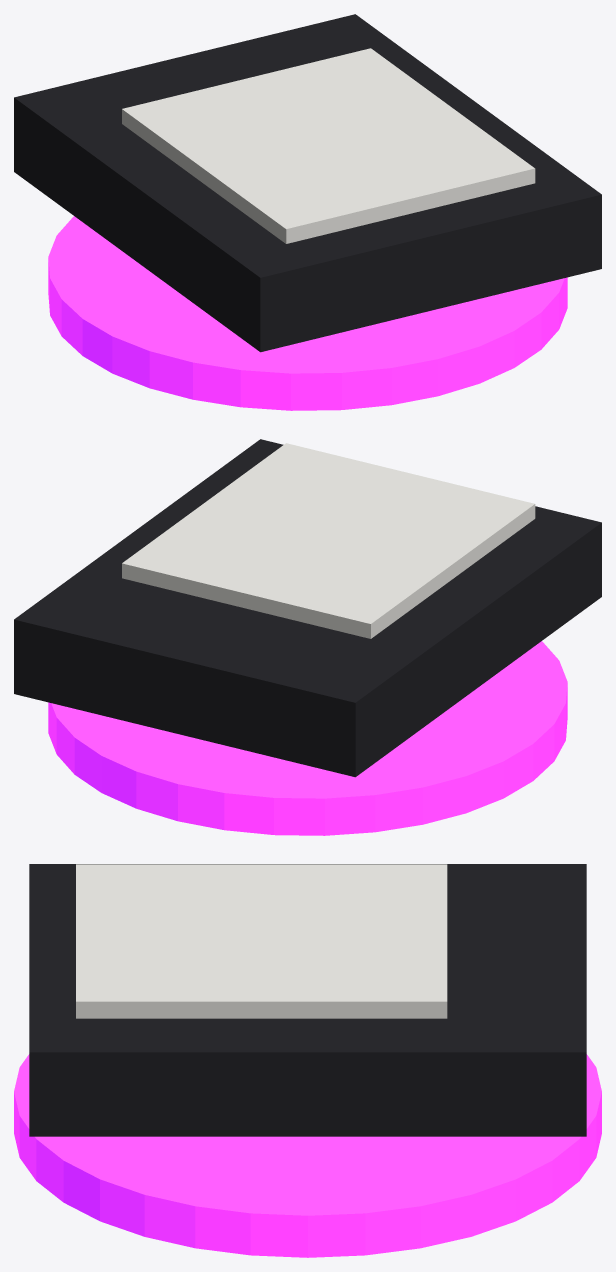
Rendered from modelling_portfolio_book.glb.
3 renders of one model, top to bottom at view 1: azimuth 30°, elevation 25°; view 2: azimuth 150°, elevation 25°; view 3: azimuth 270°, elevation 25°, orthographic. The views are drawn at different scales.
Parts seen in each view (by area): view 1: 05_10_Popular_Modelling_Portfolio_Book_part_01, 05_10_Popular_Modelling_Portfolio_Book_part_02, 05_10_Popular_Modelling_Portfolio_Book_ROOT_base; view 2: 05_10_Popular_Modelling_Portfolio_Book_part_01, 05_10_Popular_Modelling_Portfolio_Book_part_02, 05_10_Popular_Modelling_Portfolio_Book_ROOT_base; view 3: 05_10_Popular_Modelling_Portfolio_Book_part_01, 05_10_Popular_Modelling_Portfolio_Book_ROOT_base, 05_10_Popular_Modelling_Portfolio_Book_part_02.
Boxes of the visible parts, bbox=[...] form: 05_10_Popular_Modelling_Portfolio_Book_part_01: bbox=[14, 14, 601, 352]; 05_10_Popular_Modelling_Portfolio_Book_part_02: bbox=[122, 48, 535, 243]; 05_10_Popular_Modelling_Portfolio_Book_ROOT_base: bbox=[48, 216, 567, 410]; 05_10_Popular_Modelling_Portfolio_Book_part_01: bbox=[14, 439, 601, 777]; 05_10_Popular_Modelling_Portfolio_Book_part_02: bbox=[122, 443, 535, 638]; 05_10_Popular_Modelling_Portfolio_Book_ROOT_base: bbox=[48, 641, 567, 835]; 05_10_Popular_Modelling_Portfolio_Book_part_01: bbox=[29, 864, 586, 1136]; 05_10_Popular_Modelling_Portfolio_Book_ROOT_base: bbox=[14, 1054, 601, 1257]; 05_10_Popular_Modelling_Portfolio_Book_part_02: bbox=[76, 864, 447, 1018].
Bounding box in the file's own units: 0.76 × 0.286 × 0.76.
